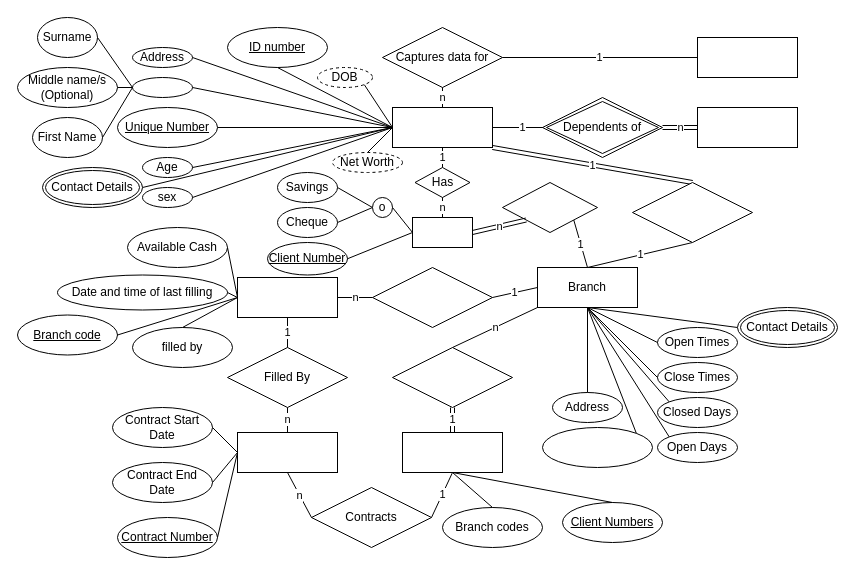
The diagram is 855 pixels wide and 575 high, and some of its shapes have lost their labels. The box of each missing label's shape, as (x1, y1, x2, y2) in pixels:
Account: (412, 216, 472, 248)
Administers: (372, 266, 492, 328)
ATM: (236, 276, 338, 318)
CIT: (236, 432, 338, 472)
Client: (392, 106, 492, 148)
FNB: (402, 432, 502, 472)
Manages: (502, 182, 598, 232)
Names: (132, 76, 192, 98)
Parent/s: (696, 106, 798, 148)
Provided by: (392, 346, 512, 408)
Registers at: (632, 182, 752, 242)
Unique Branch Code: (542, 426, 652, 468)
User: (696, 36, 798, 78)
